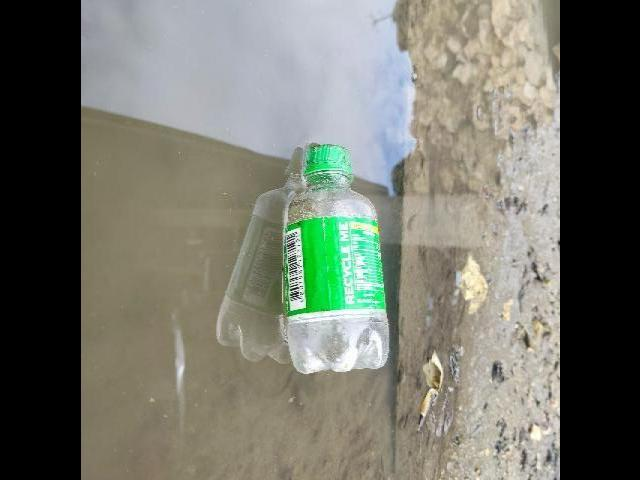Bottle: (269, 133, 393, 382)
